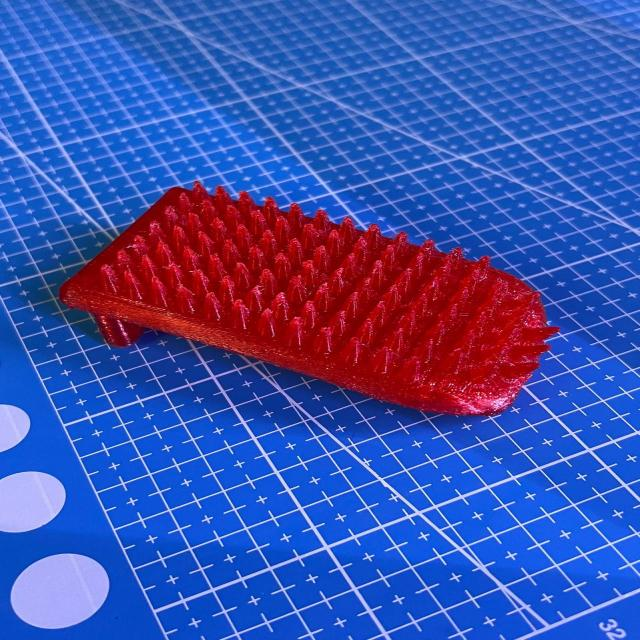Without deffect: (64, 161, 562, 431)
